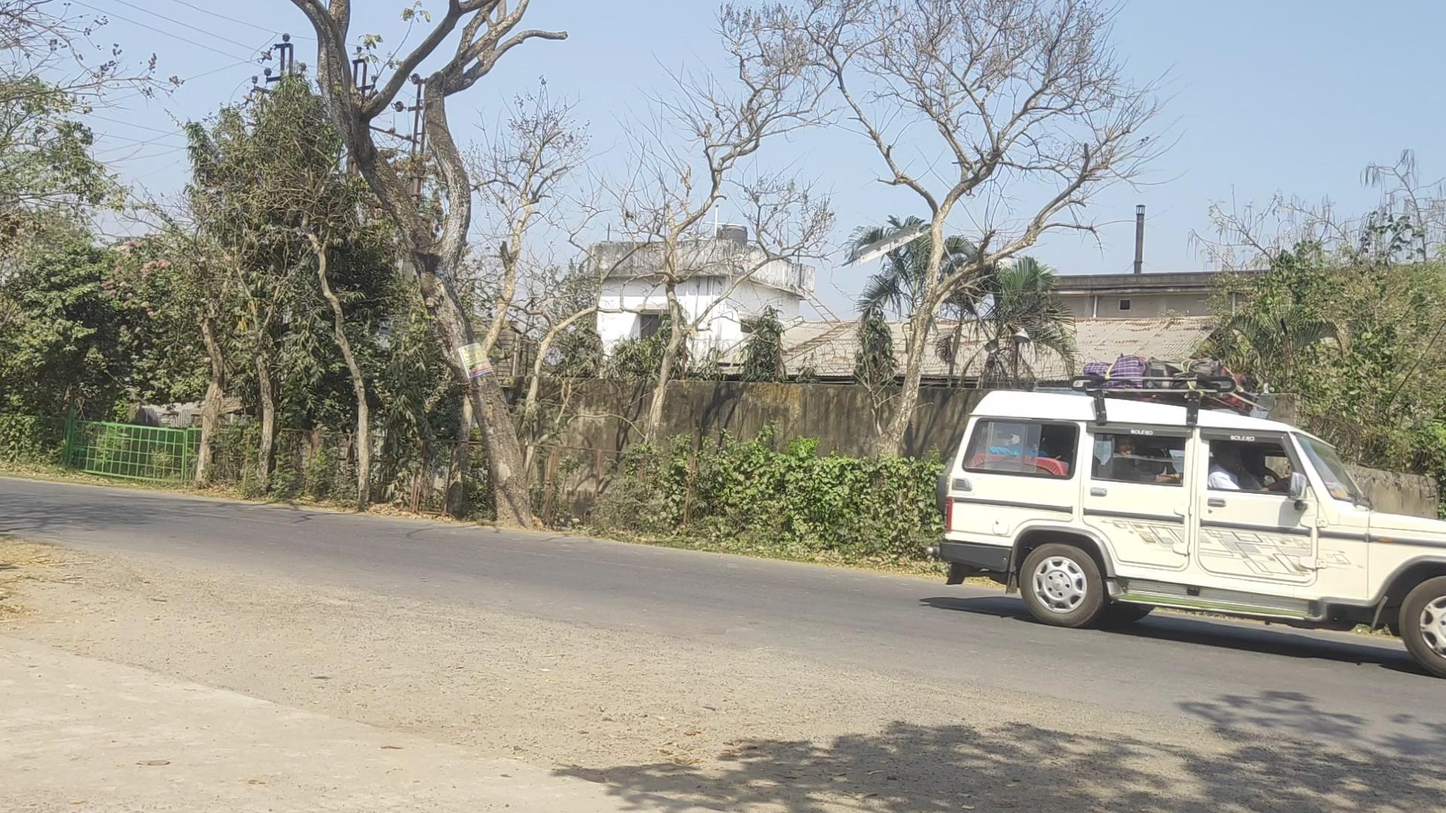car: (927, 356, 1446, 680)
